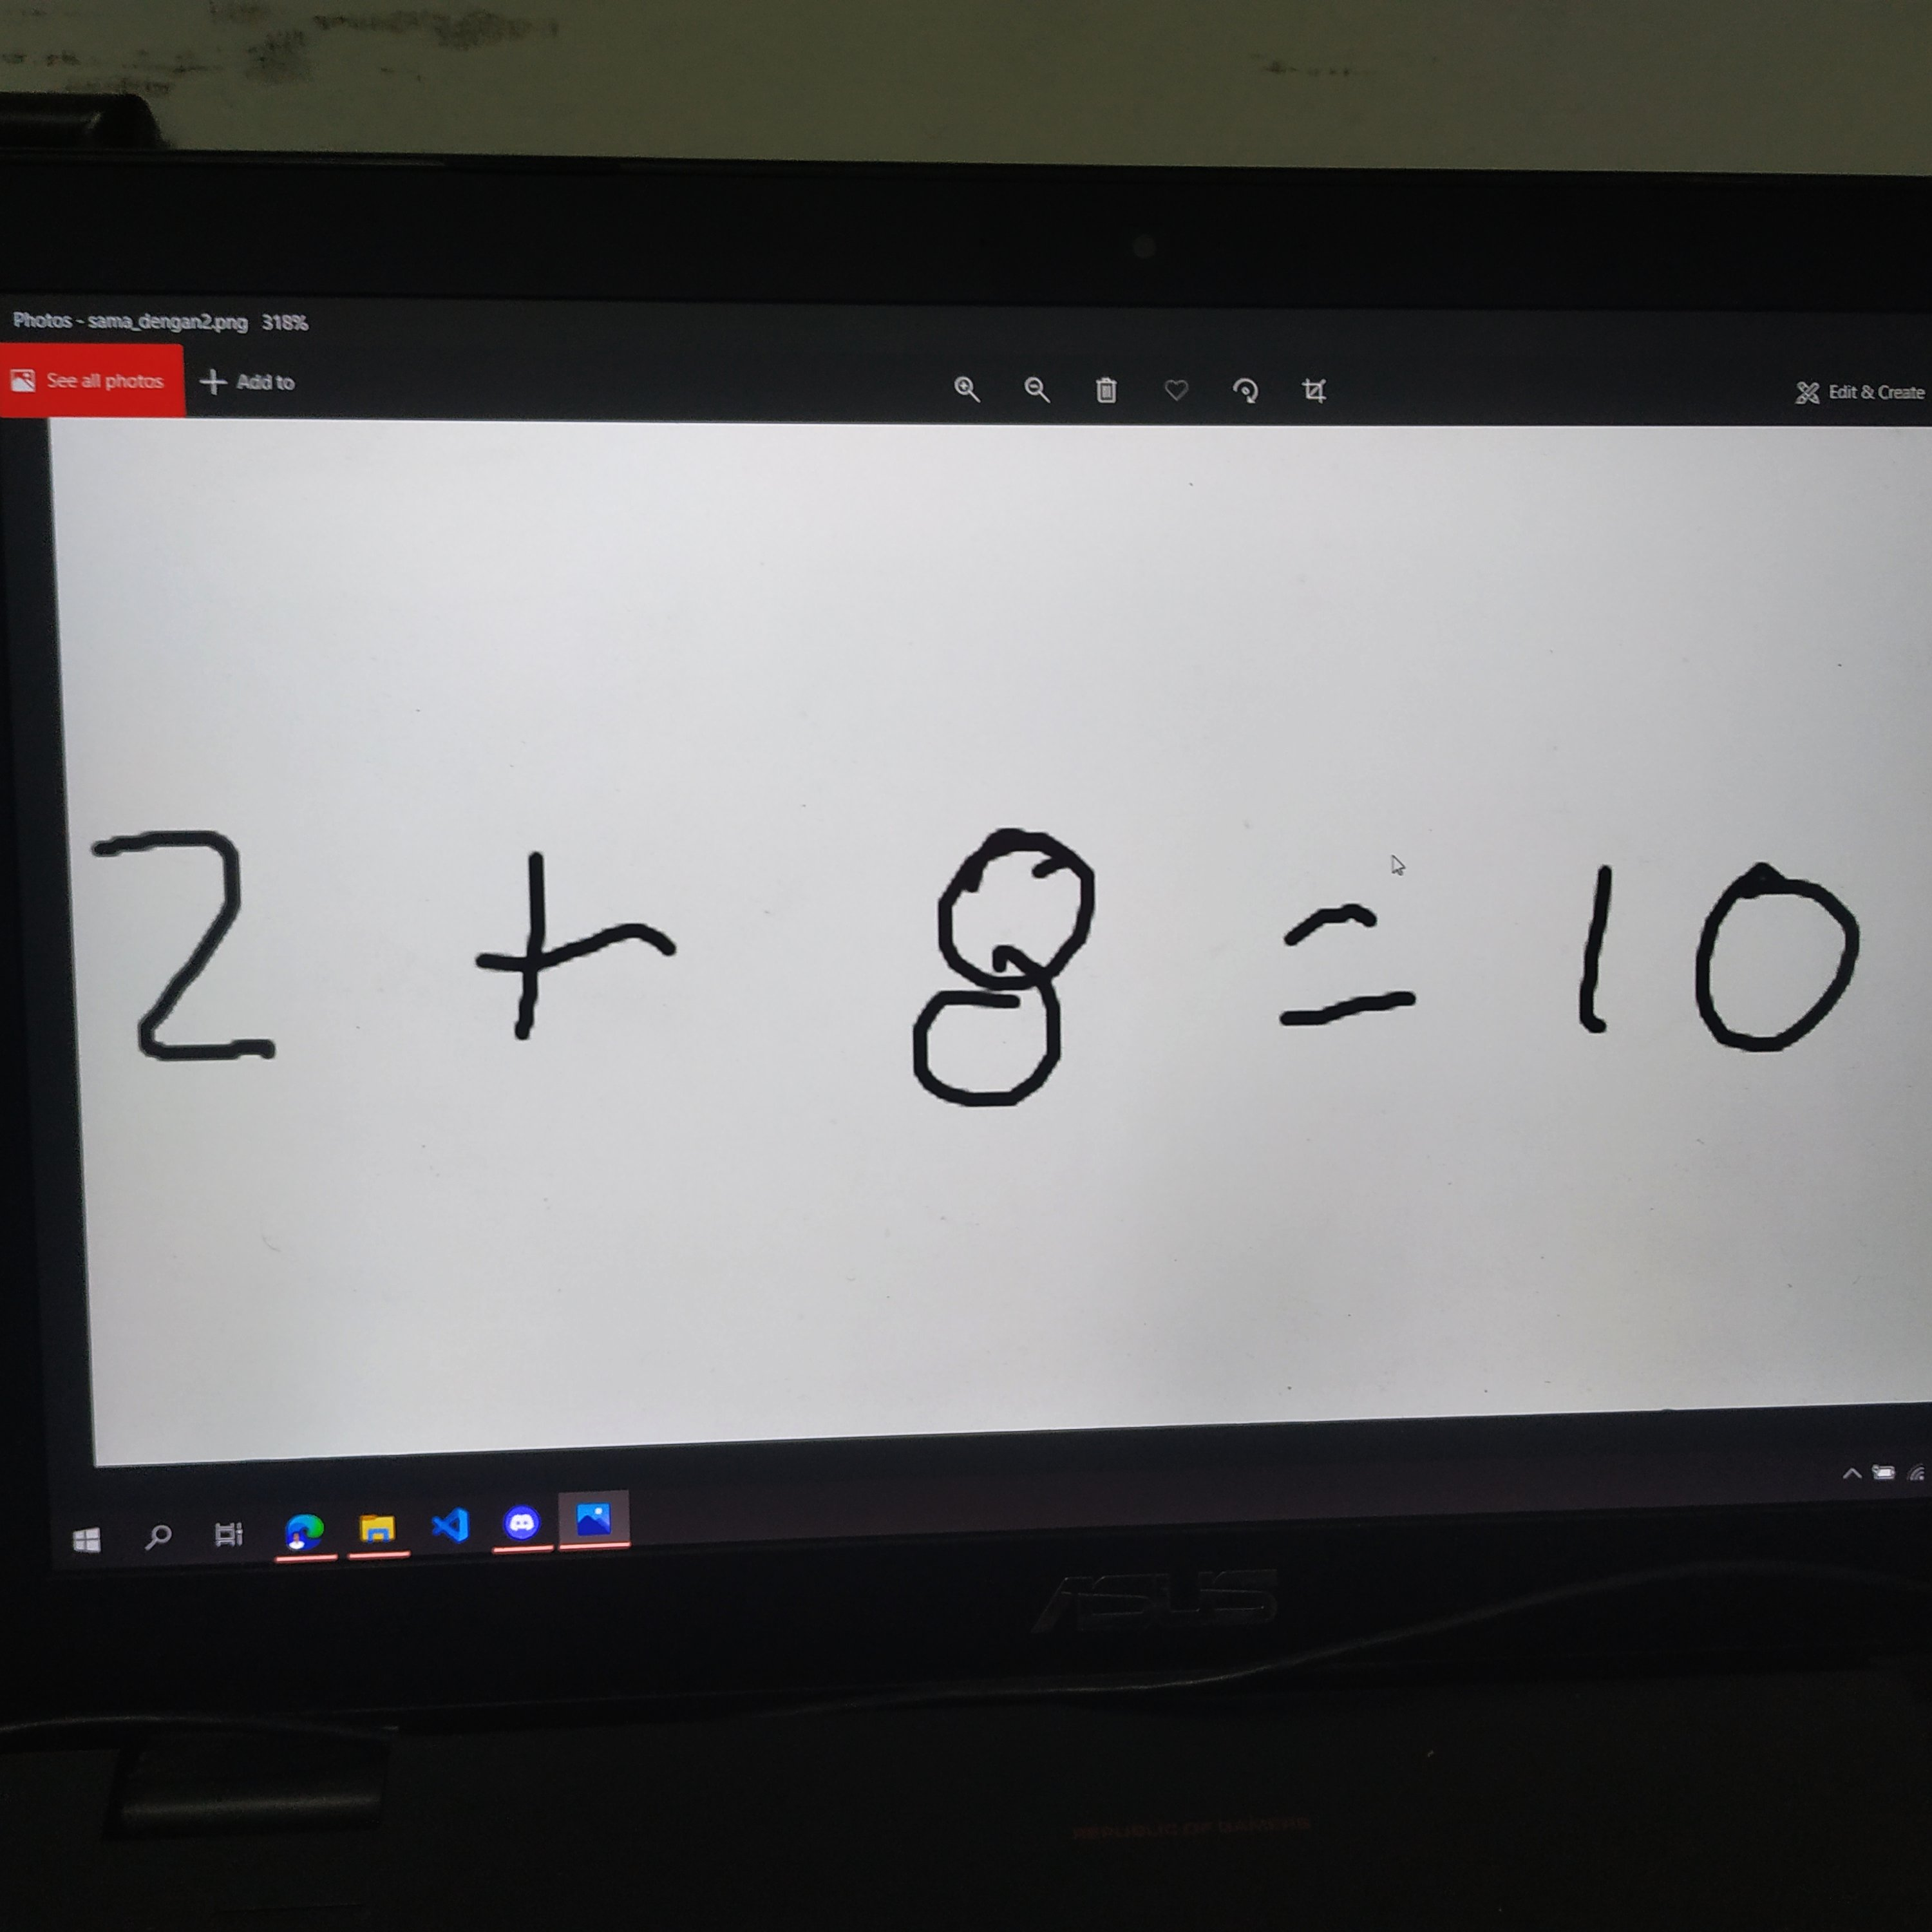equal: (1257, 885, 1465, 1063)
num0: (1677, 848, 1877, 1084)
num1: (1538, 837, 1640, 1070)
num2: (75, 812, 331, 1086)
num8: (889, 812, 1133, 1142)
sum: (460, 831, 709, 1046)
